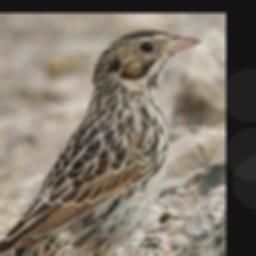Sparrow: (0, 27, 203, 256)
